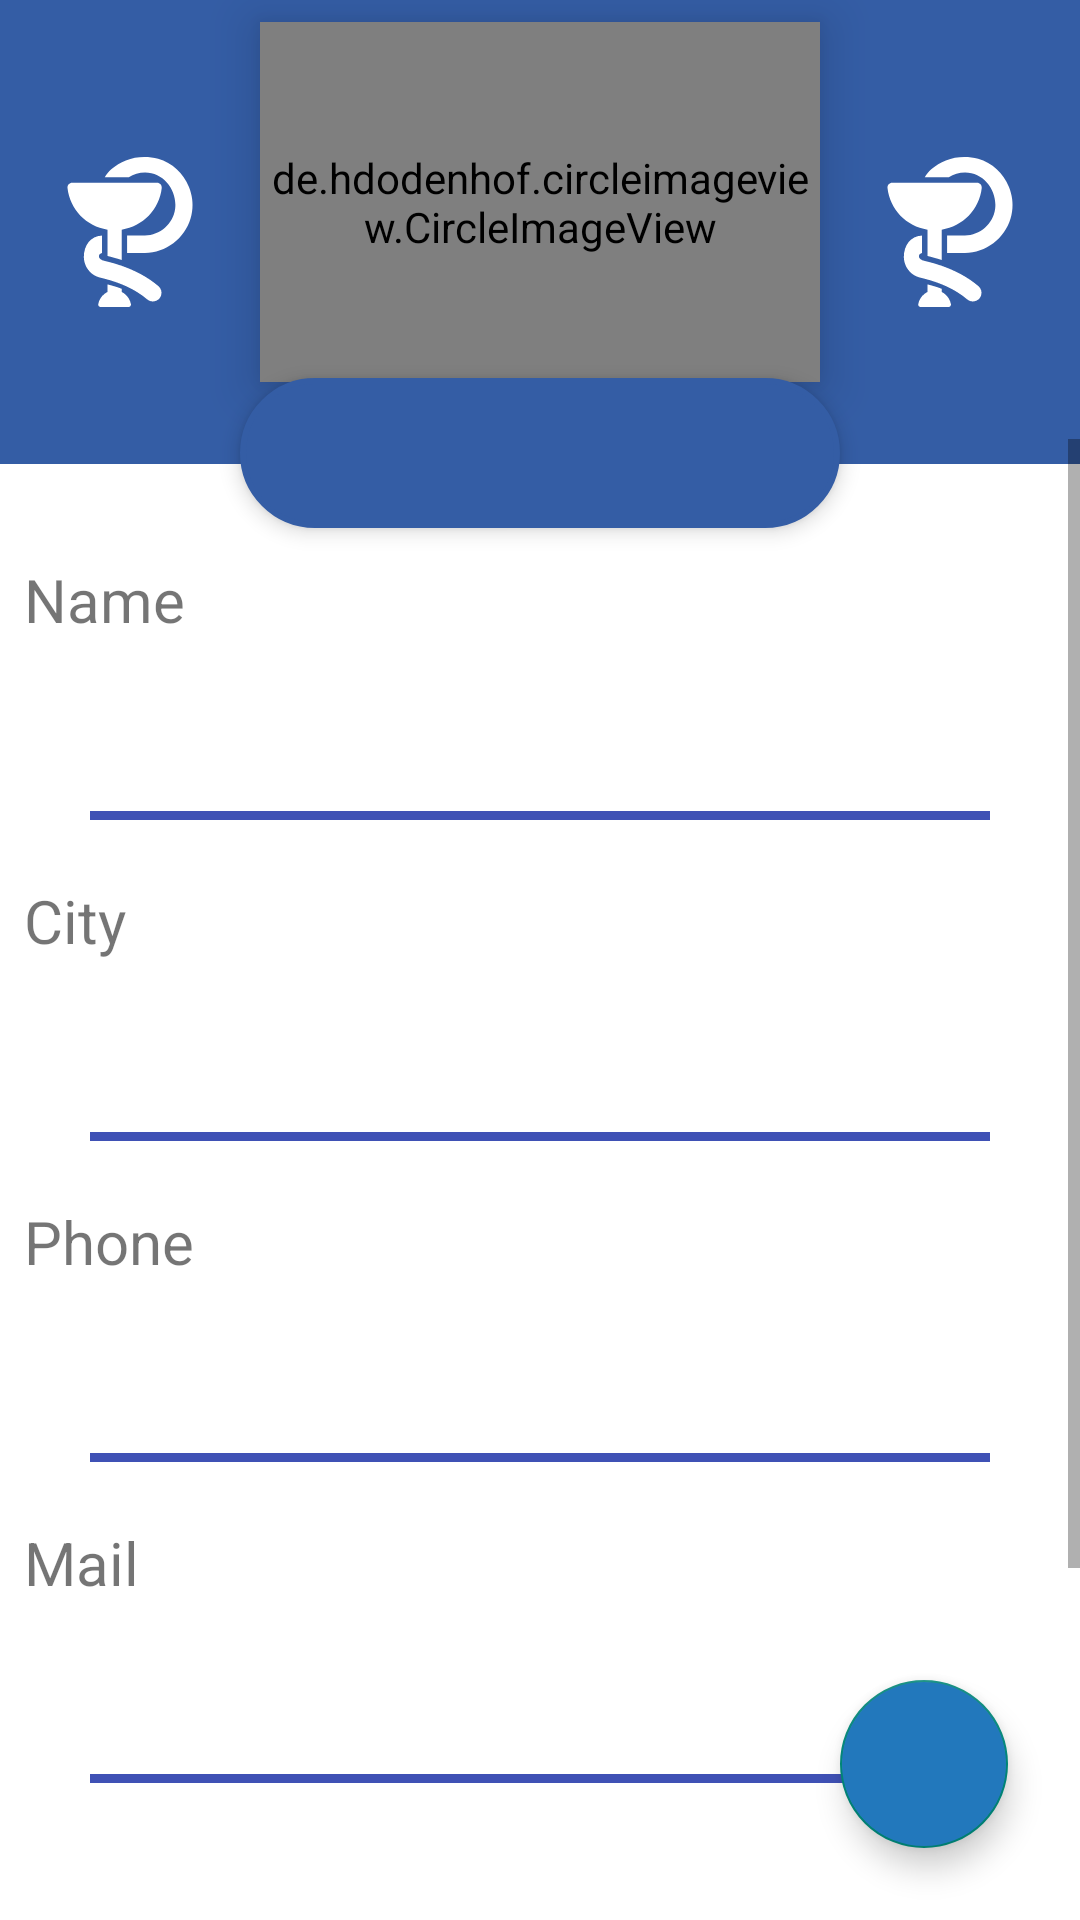

Named icons in this screenshot (1080 × 1920) and their bounding boxes, (x1, y1, x2, y2):
pharmacy: (67, 157, 193, 307), (887, 157, 1013, 307)
